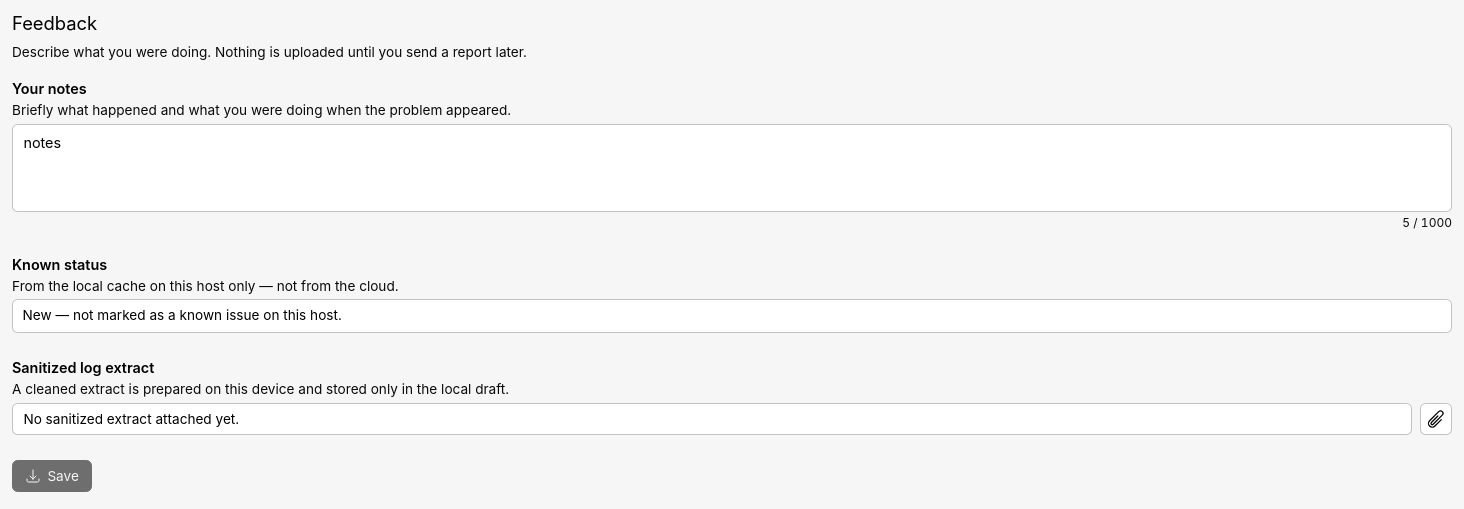
Test: FeedbackForm › shows a missing-extract error when attach is pressed without log data
Click the button with class "feedback-form__button--secondary" at point(1436, 418), box 1420,402 -> 1452,434
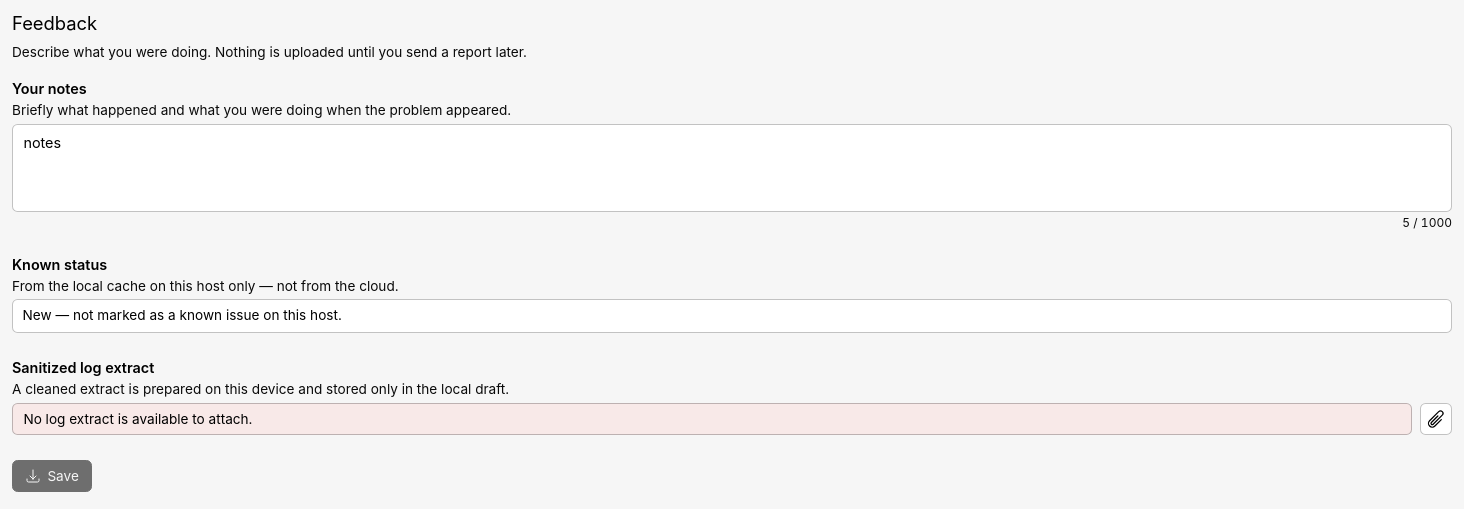
Now the field with test id "feedback-form-attachment-status" holds "No log extract is available to attach.", box 12,402 -> 1412,434
